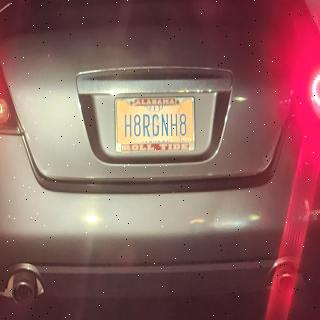license: (115, 98, 196, 153)
